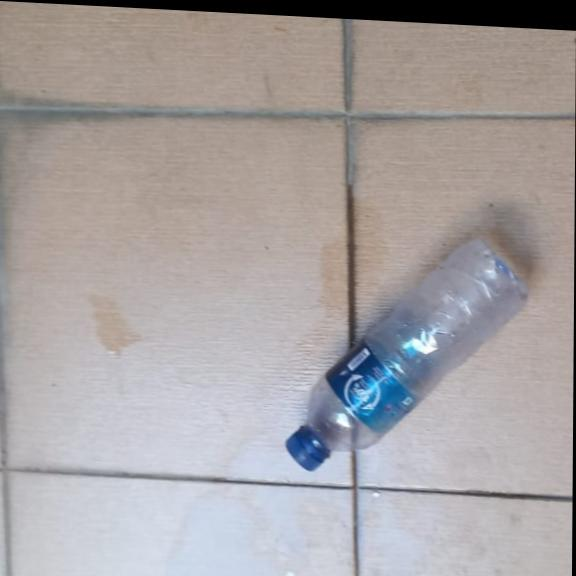Plastik: (283, 226, 530, 482)
